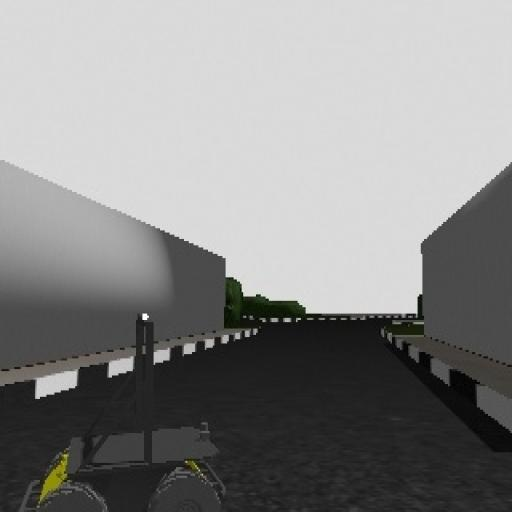huskya200: (15, 288, 237, 512)
